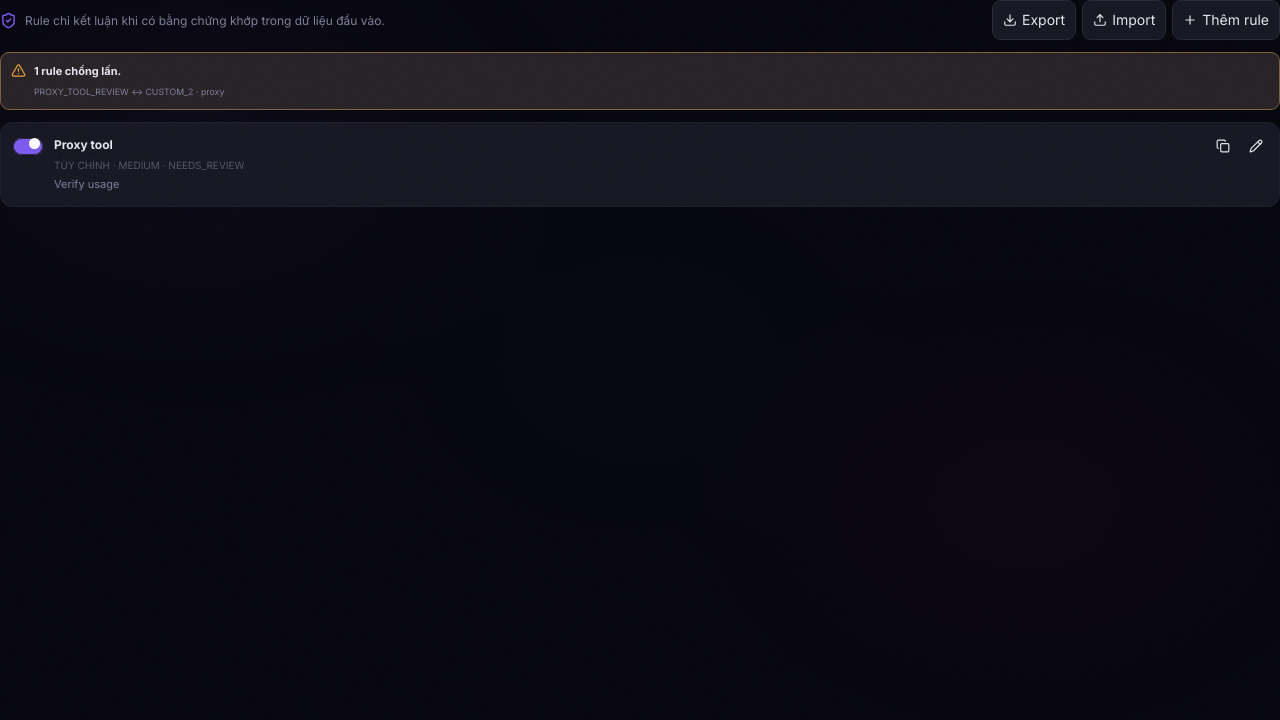
Test: RuleManager › dry-runs a draft rule against imported rows before saving
Click the button "Thêm rule" at x=1226, y=20, box top-left (1172, 0), bottom-right (1279, 40)
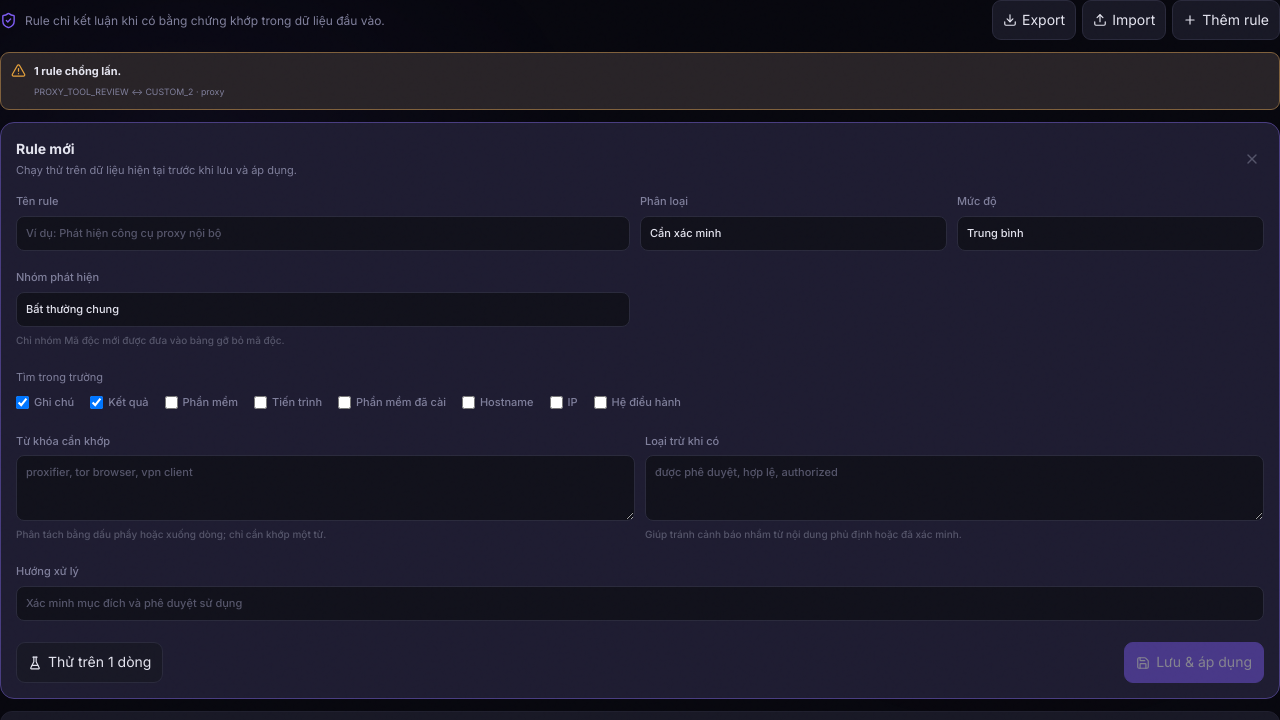
Type "Proxy nội bộ" into the field labelled "Tên rule" at x=323, y=233, box top-left (16, 216), bottom-right (630, 251)
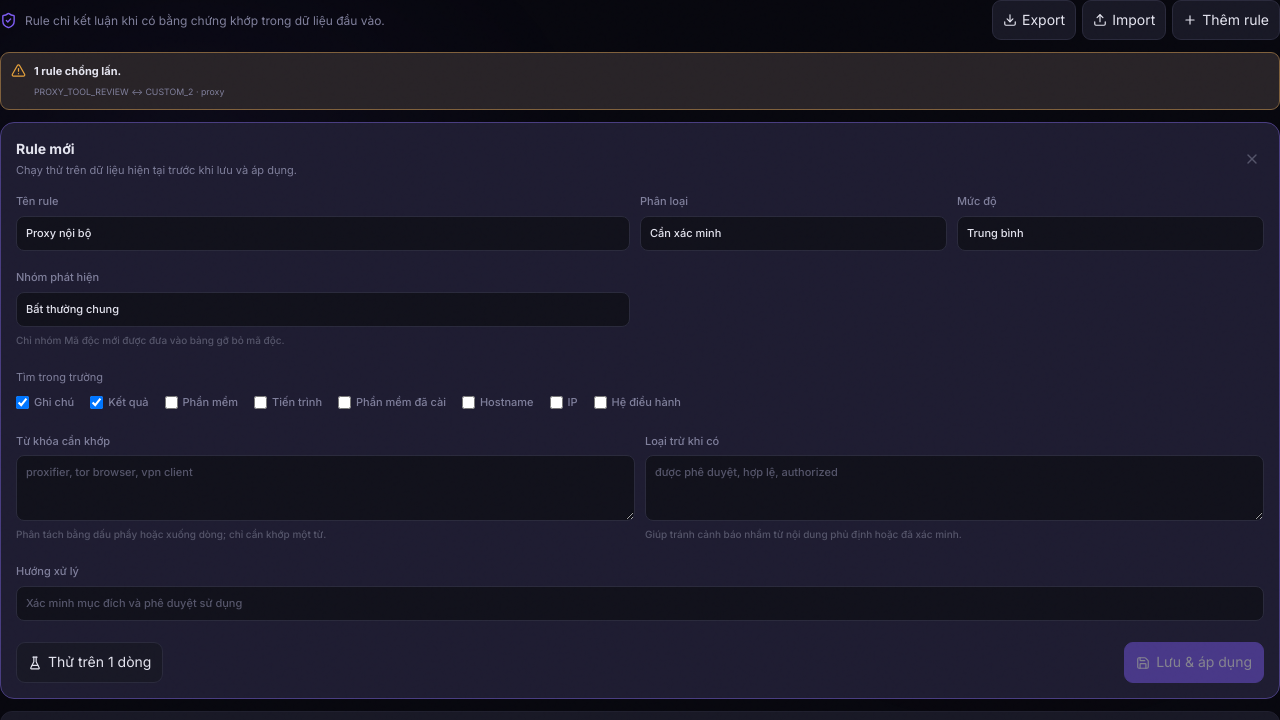
Select "Mã độc cần theo dõi gỡ bỏ" in the dropdown labelled "Nhóm phát hiện" at x=323, y=310, box top-left (16, 292), bottom-right (630, 327)
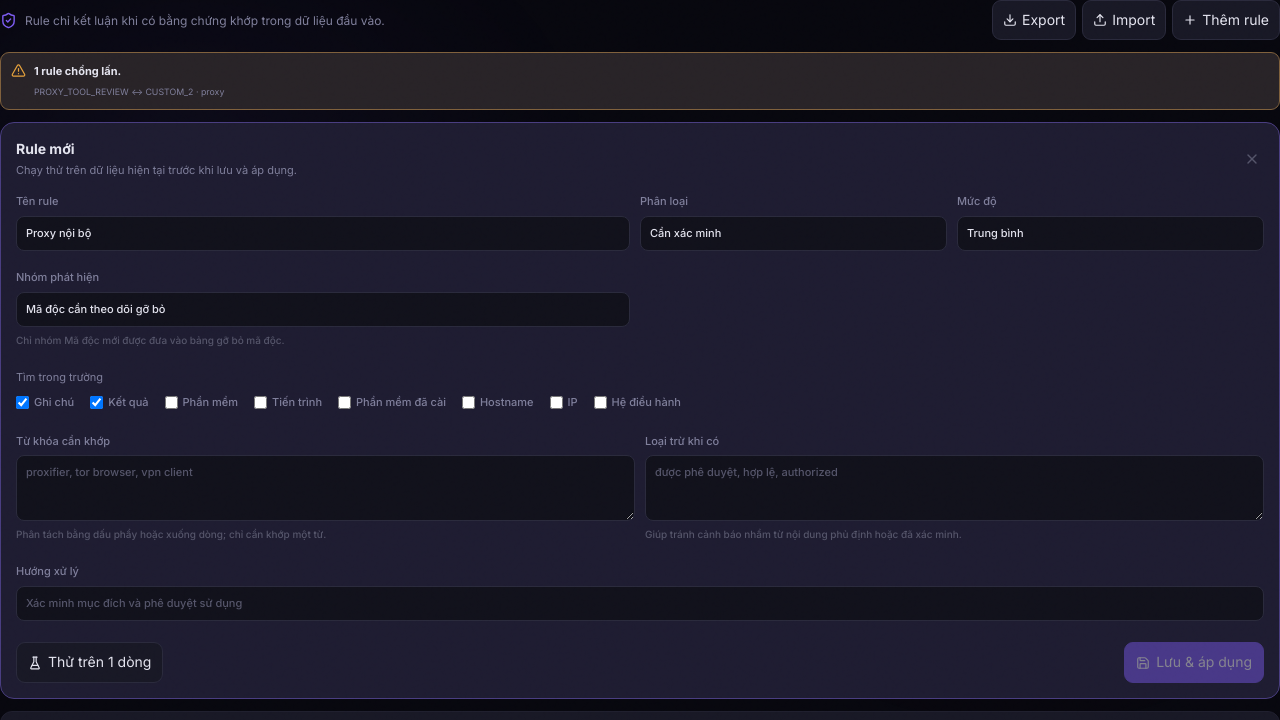
Type "Acme Relay" into the text box labelled "Từ khóa cần khớp" at x=326, y=488, box top-left (16, 455), bottom-right (635, 521)
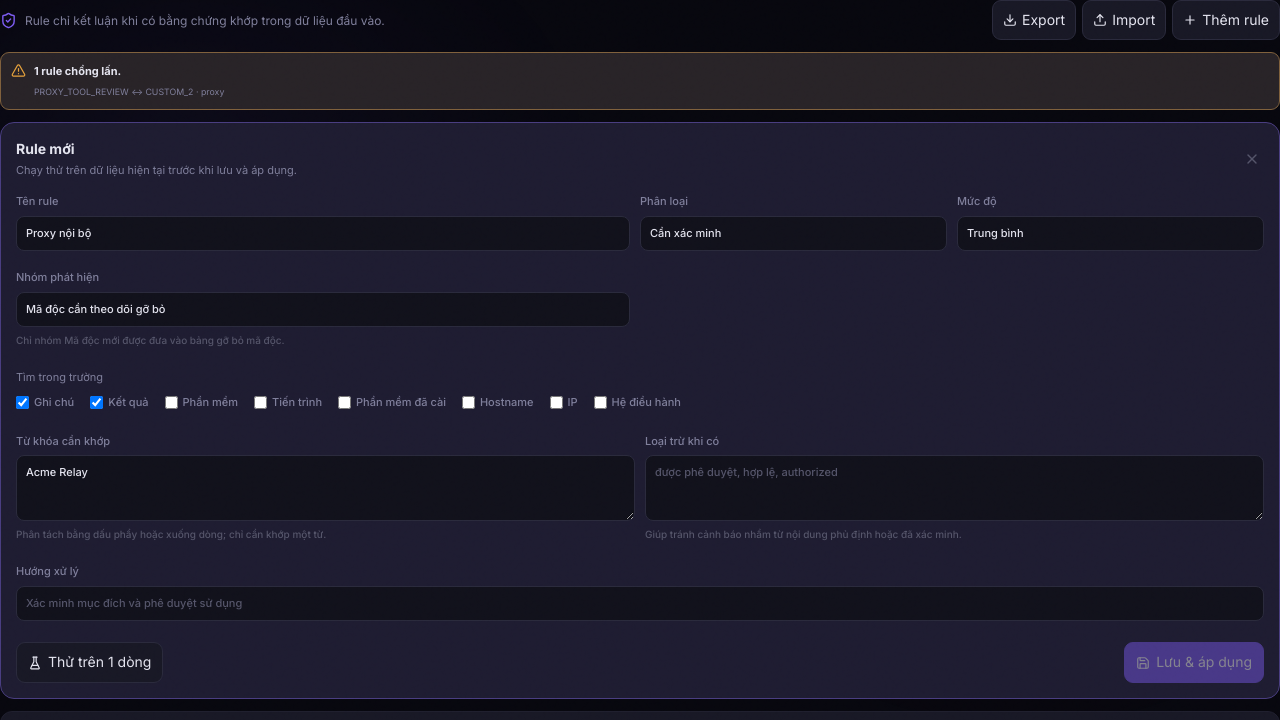
Click the button "Thử trên 1 dòng" at x=90, y=663, box top-left (16, 642), bottom-right (163, 683)
(page scrolled)
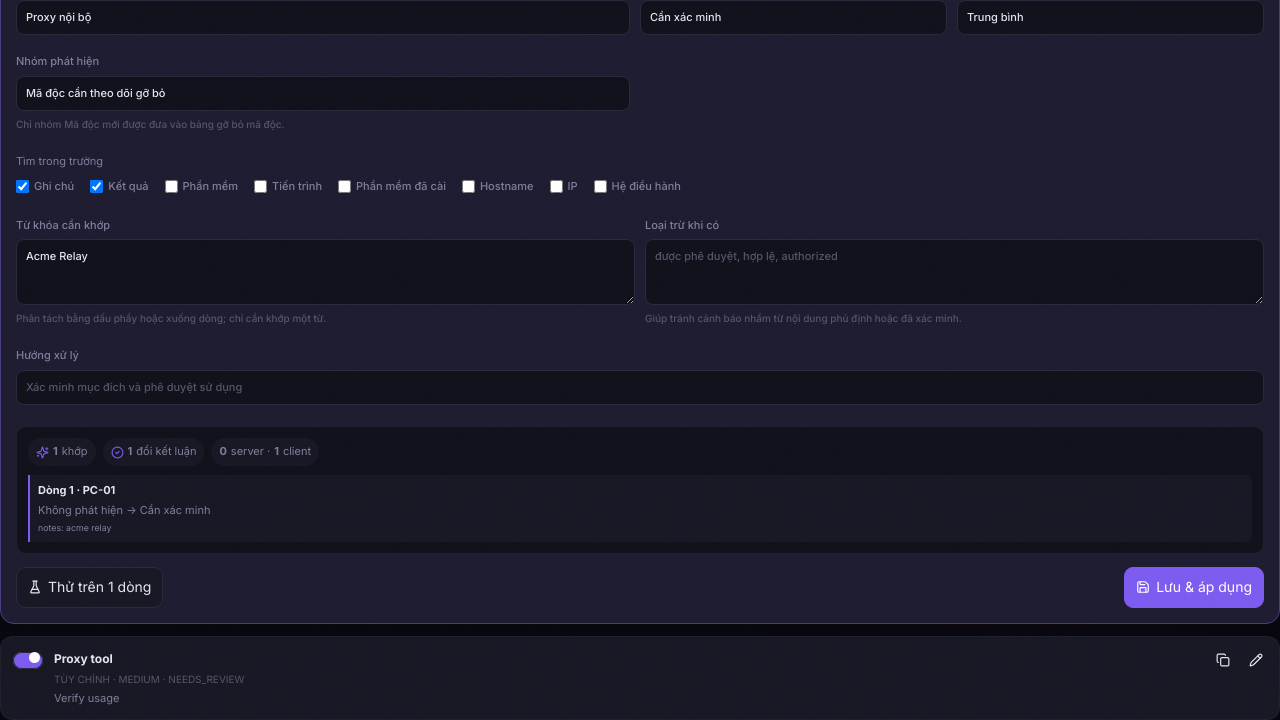
Expected: the text "1 đổi kết luận" is shown, top-left (103, 438), bottom-right (204, 466)
Expected: the text "Không phát hiện → Cần xác minh" is shown, top-left (38, 503), bottom-right (210, 517)
